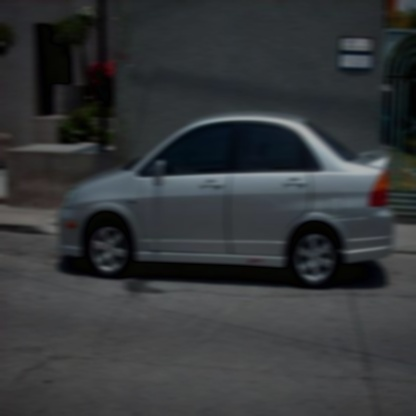Vehicle: (53, 116, 399, 292)
